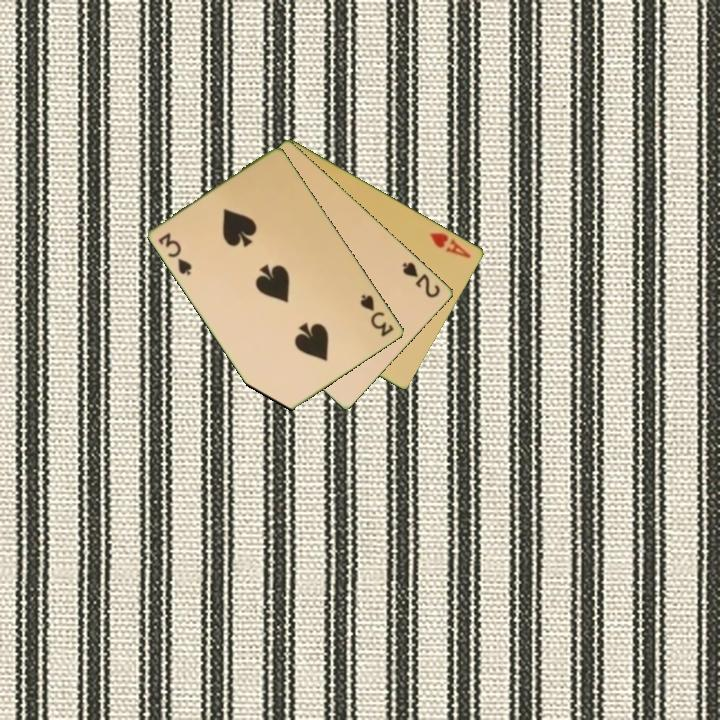2s: (399, 258, 443, 301)
3s: (155, 229, 195, 279), (357, 291, 397, 340)
Ah: (426, 229, 474, 261)
